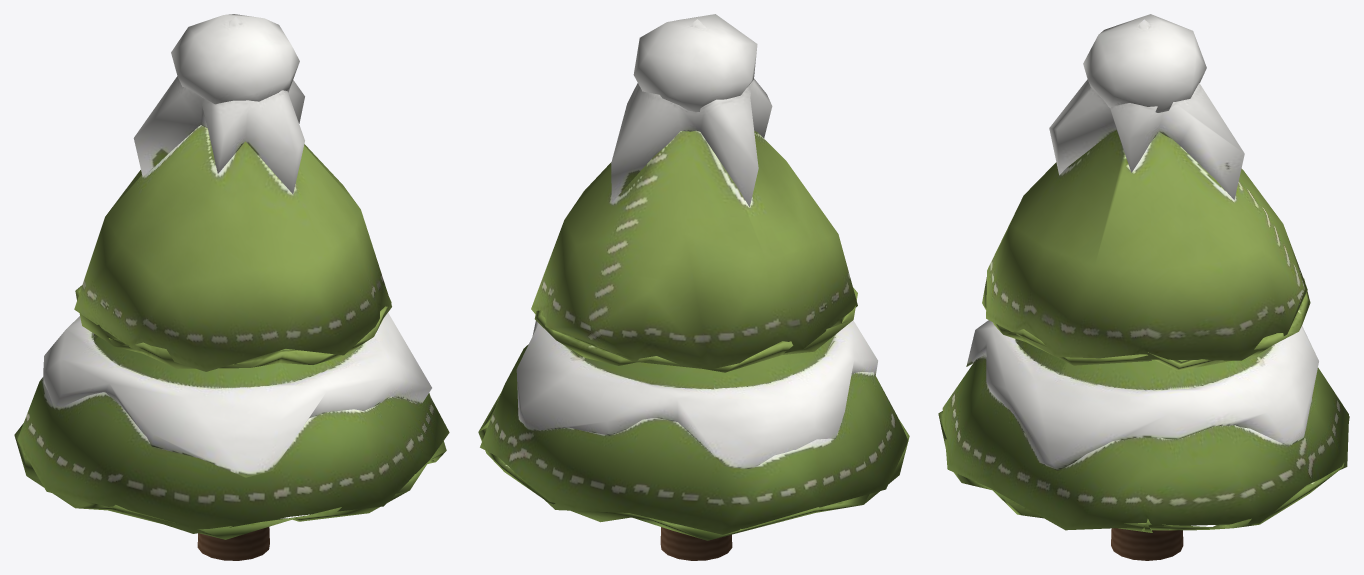
Rendered from tree_little.glb.
3 views of the same model, side by side, from view 1: azimuth 30°, elevation 25°; view 2: azimuth 150°, elevation 25°; view 3: azimuth 270°, elevation 25° (orthographic).
Visible parts, largest first — view 1: prop_tree_little_felt, prop_tree_little_wood; view 2: prop_tree_little_felt, prop_tree_little_wood; view 3: prop_tree_little_felt, prop_tree_little_wood.
Boxes of the visible parts, box(x1,y1,x2,y2) form: prop_tree_little_felt: box(14, 14, 449, 539); prop_tree_little_wood: box(197, 527, 269, 560); prop_tree_little_felt: box(478, 14, 909, 540); prop_tree_little_wood: box(660, 527, 732, 560); prop_tree_little_felt: box(938, 14, 1349, 532); prop_tree_little_wood: box(1111, 528, 1183, 560).
Bounding box in the file's own units: 2.54 × 3.36 × 2.38.
Materials: 2 (2 with a texture image).
